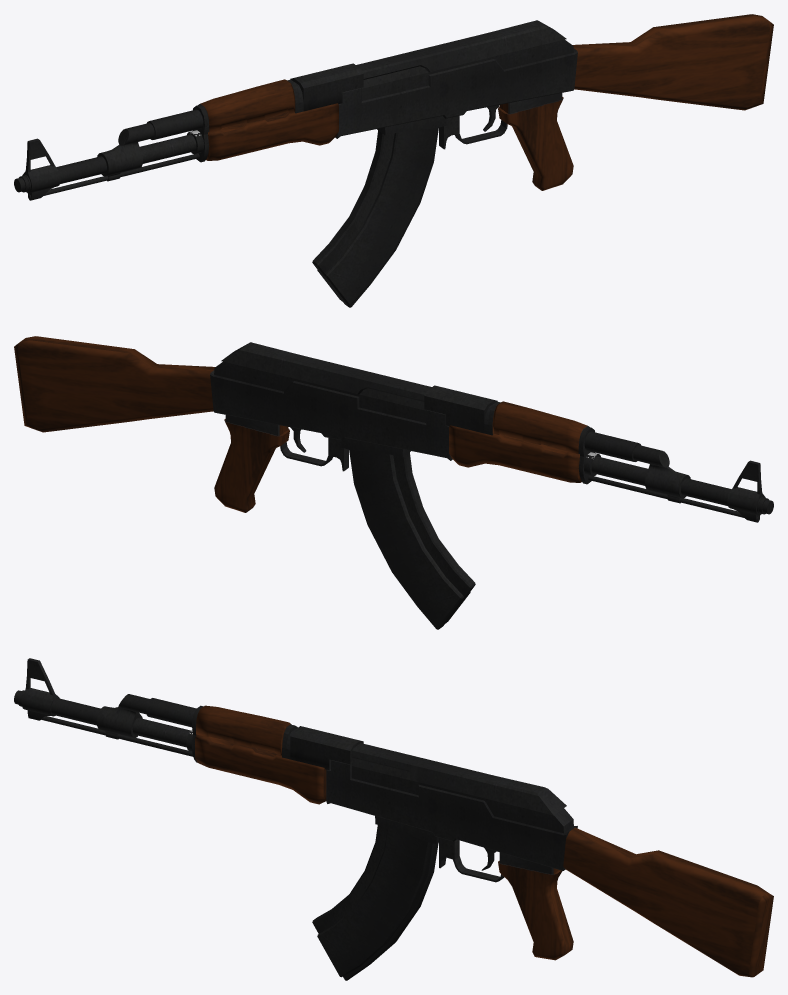
File: AK47Pick.fbx
3 renders of one model, top to bottom at view 1: azimuth 30°, elevation 25°; view 2: azimuth 150°, elevation 25°; view 3: azimuth 330°, elevation 25°, orthographic.
Parts seen in each view (by area): view 1: AKPick; view 2: AKPick; view 3: AKPick.
Part boxes in pixels (x1,y1,x2,y2): AKPick: (14, 14, 773, 307); AKPick: (14, 336, 773, 629); AKPick: (14, 658, 773, 980).
Size of the model in its own units: 6.63 by 2.04 by 0.2324.
1 material, 1 textured.
